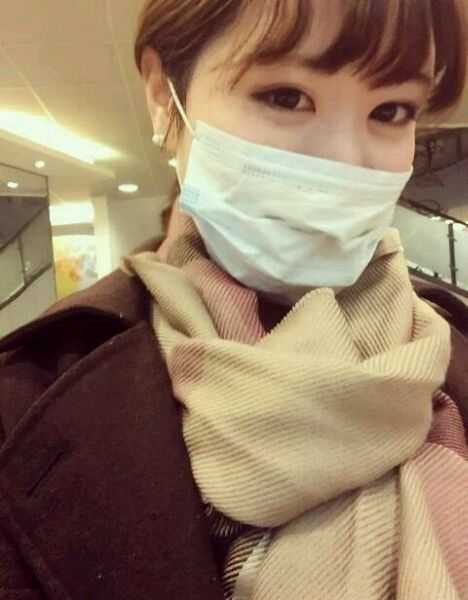face_mask: (191, 1, 430, 296)
